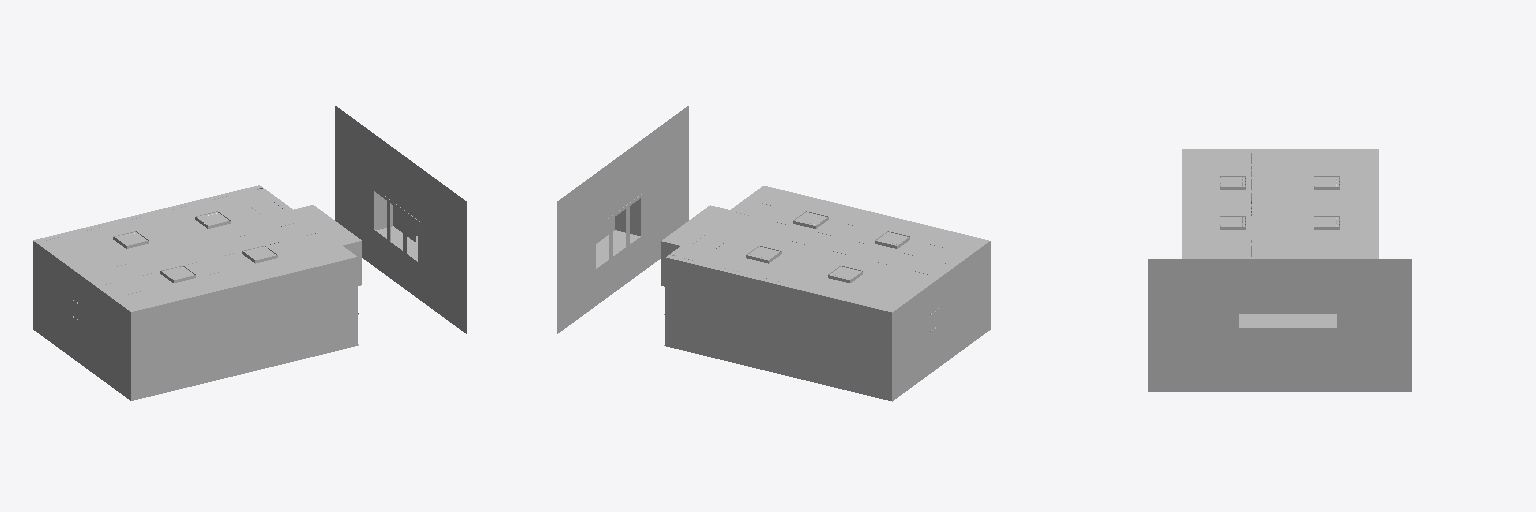
3 views of the same model, side by side, from view 1: azimuth 30°, elevation 25°; view 2: azimuth 150°, elevation 25°; view 3: azimuth 270°, elevation 25° (orthographic).
Visible parts, largest first — view 1: Plane.011_wallpaper, Plane.011_skybox, Plane.011_cream, Plane.011_wallpaper-wood, Plane.011_blackwood, Plane.011_mahogany, Plane.011_lampsilver; view 2: Plane.011_wallpaper, Plane.011_skybox, Plane.011_cream, Plane.011_wallpaper-wood, Plane.011_blackwood, Plane.011_mahogany, Plane.011_lampsilver; view 3: Plane.011_skybox, Plane.011_cream, Plane.011_blackwood, Plane.011_curtains, Plane.011_mahogany, Plane.011_lampsilver.
Boxes of the visible parts, <box> form: Plane.011_wallpaper: <box>33,188,357,368</box>; Plane.011_skybox: <box>335,106,466,333</box>; Plane.011_cream: <box>44,189,346,307</box>; Plane.011_wallpaper-wood: <box>33,253,357,400</box>; Plane.011_blackwood: <box>33,185,420,400</box>; Plane.011_mahogany: <box>282,192,417,285</box>; Plane.011_lampsilver: <box>113,211,277,282</box>; Plane.011_wallpaper: <box>665,203,990,369</box>; Plane.011_skybox: <box>557,106,688,333</box>; Plane.011_cream: <box>676,189,979,307</box>; Plane.011_wallpaper-wood: <box>665,298,990,401</box>; Plane.011_blackwood: <box>595,186,989,345</box>; Plane.011_mahogany: <box>596,199,819,291</box>; Plane.011_lampsilver: <box>746,211,909,282</box>; Plane.011_skybox: <box>1148,259,1411,391</box>; Plane.011_cream: <box>1189,153,1371,256</box>; Plane.011_blackwood: <box>1182,149,1378,258</box>; Plane.011_curtains: <box>1239,328,1336,371</box>; Plane.011_mahogany: <box>1239,216,1336,327</box>; Plane.011_lampsilver: <box>1220,176,1339,229</box>.
Size of the model in its own units: 12.27 by 4.54 by 8.06.
Materials: 67 (2 with a texture image).